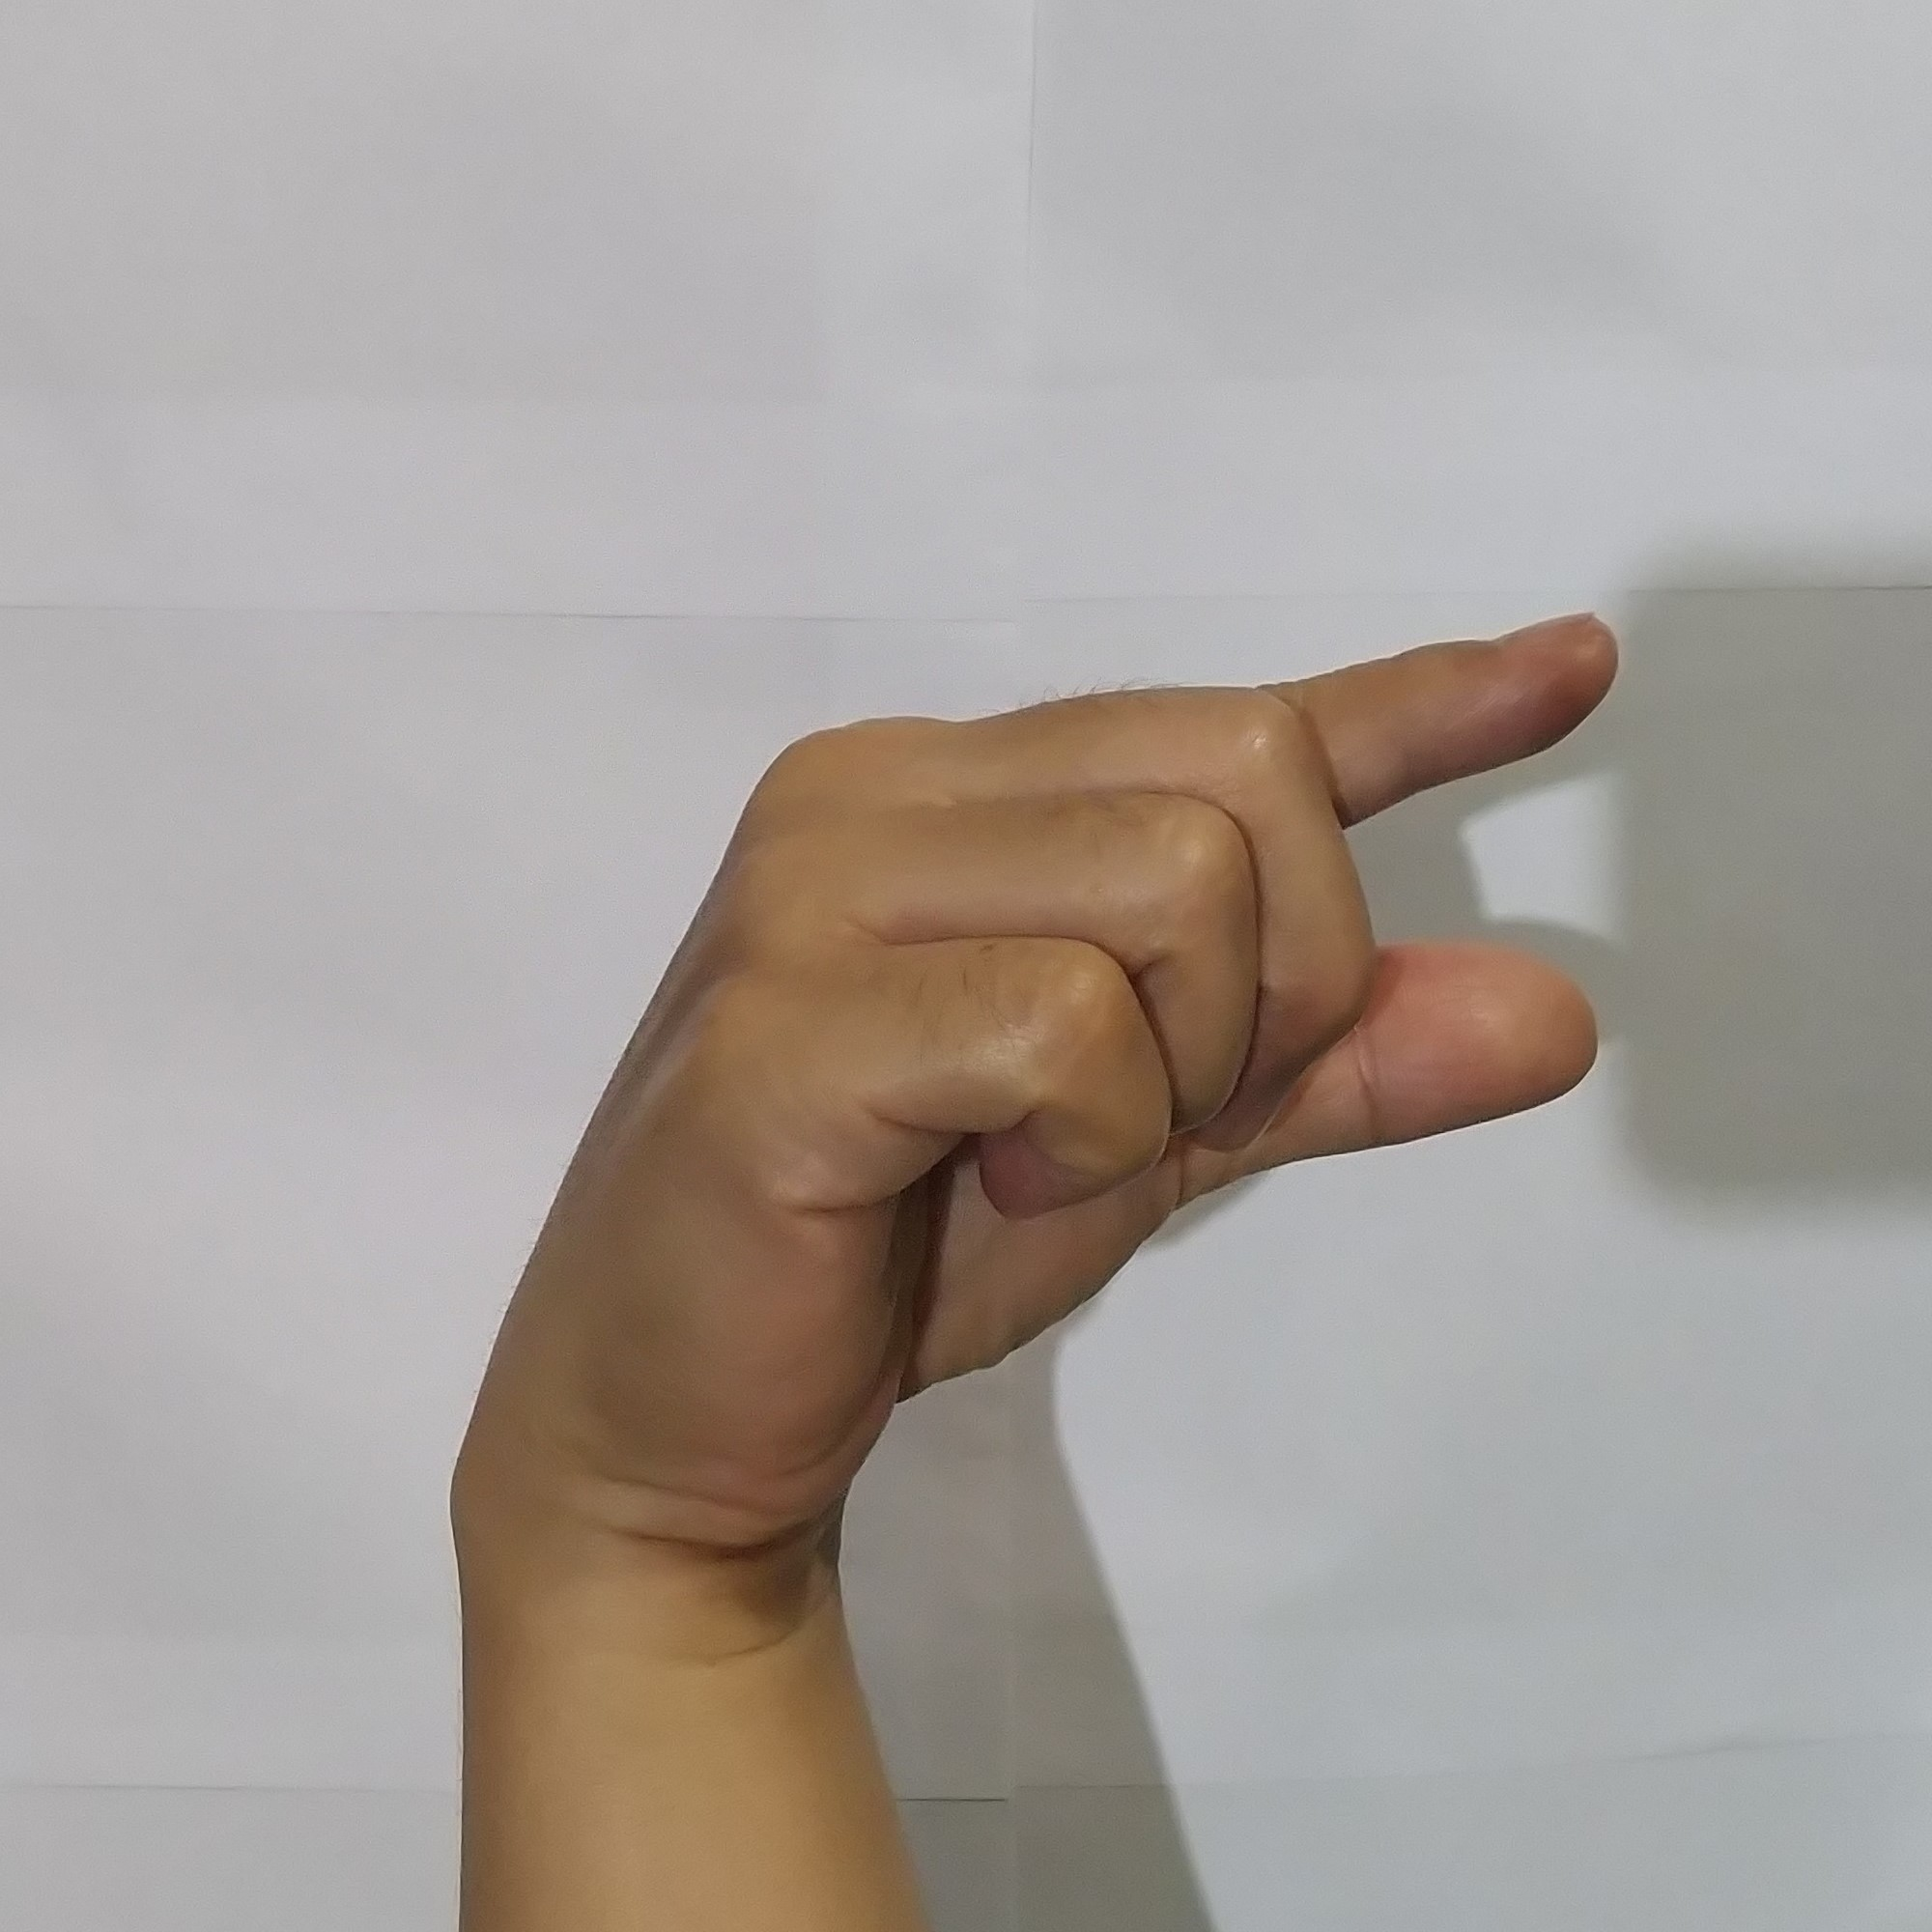G: (446, 596, 1644, 1488)
